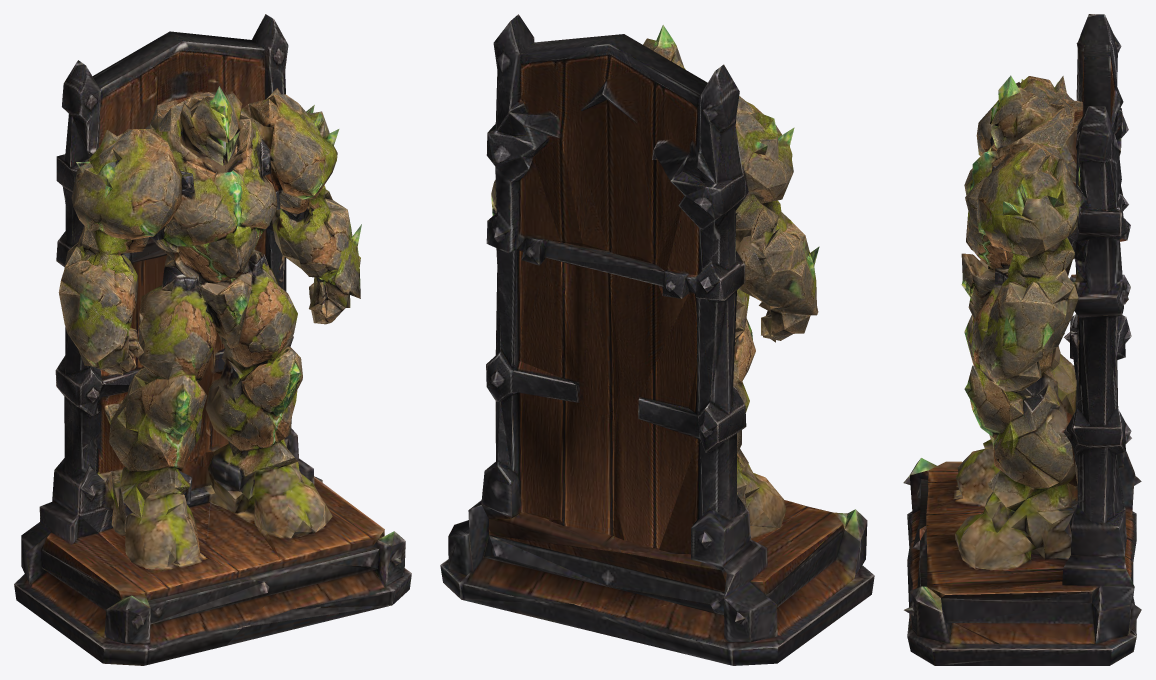
The model's file is armor-stand-rock.glb.
3 renders of one model, left to right at view 1: azimuth 30°, elevation 25°; view 2: azimuth 150°, elevation 25°; view 3: azimuth 270°, elevation 25°, orthographic. The views are drawn at different scales.
Bounding box in the file's own units: 1.22 × 2 × 0.8101.
1 material, 1 textured.
